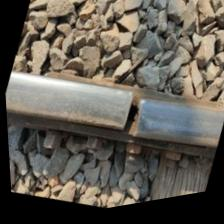person: (82, 66, 181, 172)
